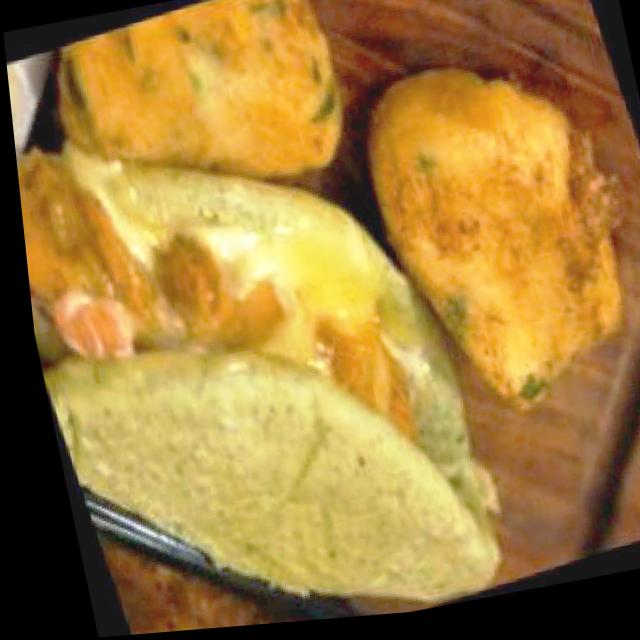mango chicken pocket: (15, 109, 507, 640)
